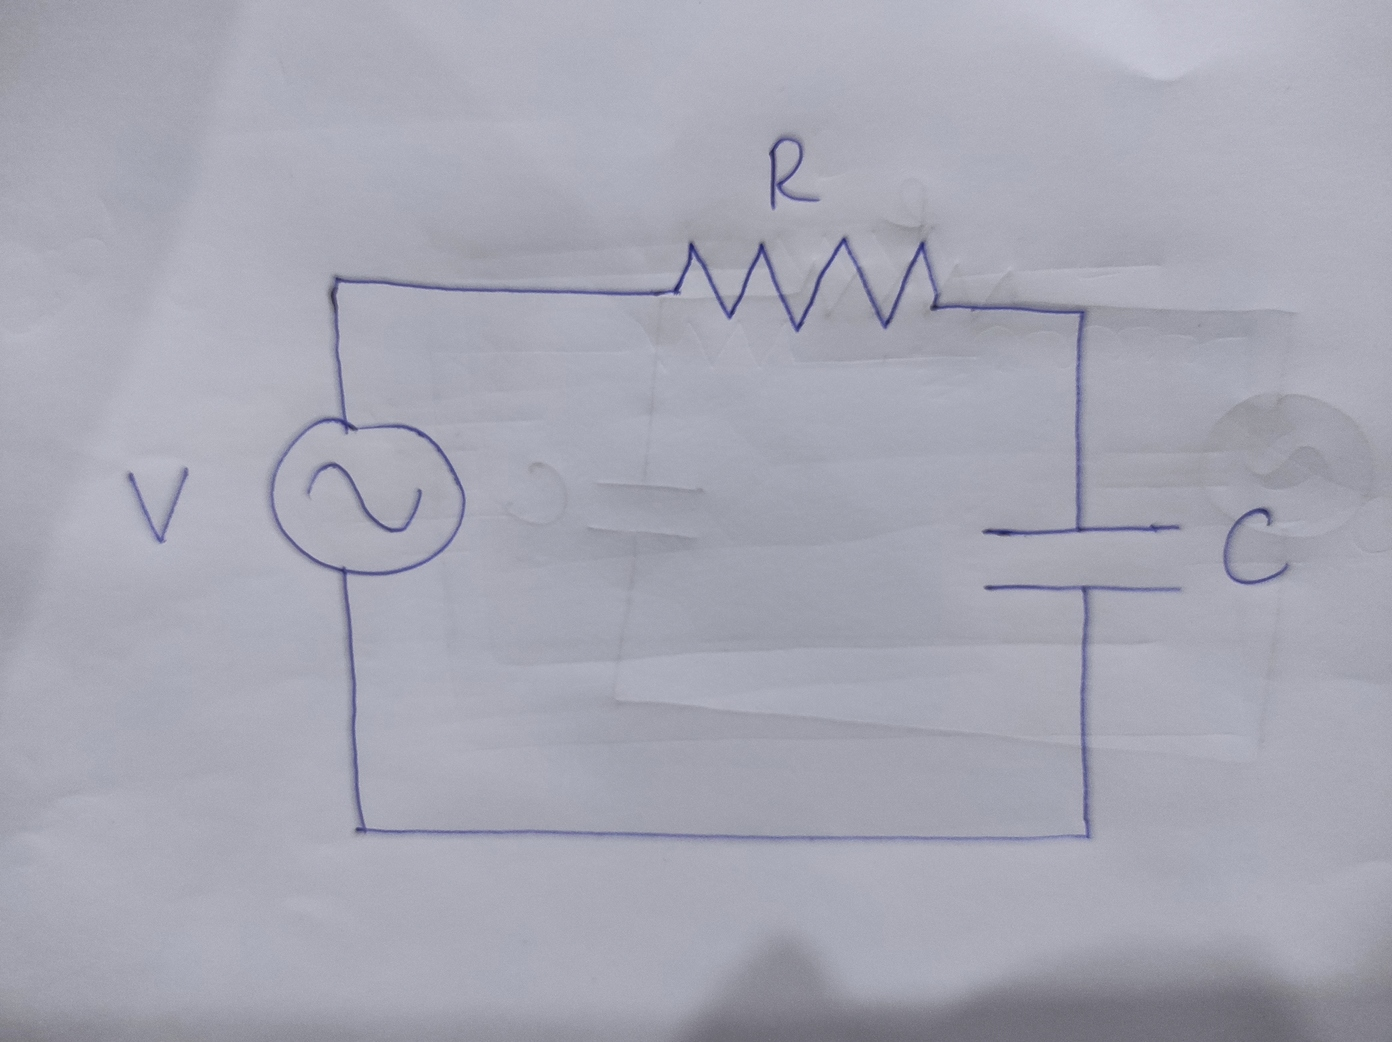capacitor.unpolarized: (973, 513, 1190, 602)
junction: (343, 812, 380, 848), (320, 263, 353, 298), (1058, 297, 1097, 327), (1071, 818, 1102, 852)
resistor: (666, 223, 947, 338)
text: (1217, 502, 1297, 592), (123, 465, 193, 548), (762, 134, 828, 212)
voltage.dc_ac: (263, 412, 476, 584)
